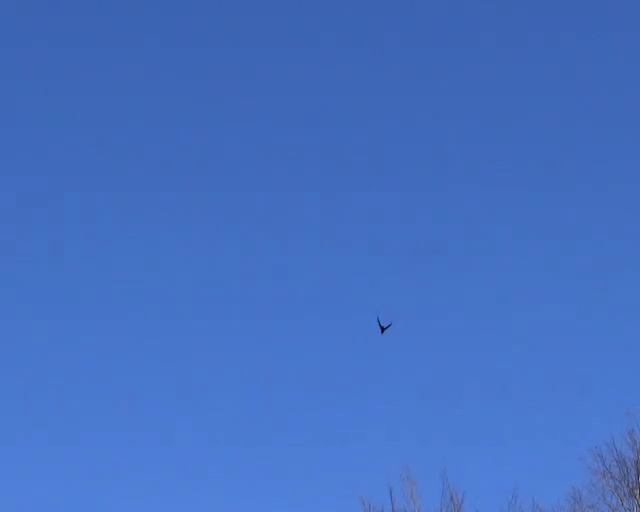BIRD: (376, 315, 392, 334)
